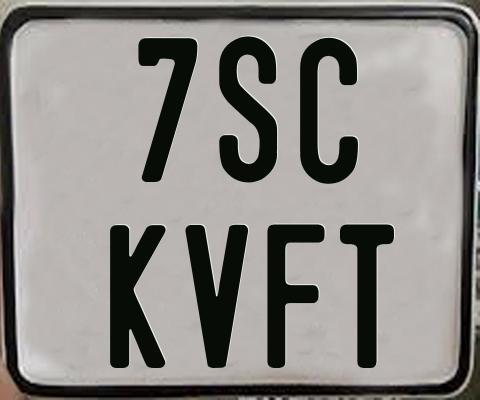7: (135, 36, 195, 182)
C: (300, 38, 364, 188)
F: (265, 221, 329, 367)
K: (107, 225, 164, 372)
S: (218, 35, 279, 182)
T: (337, 223, 396, 369)
V: (182, 225, 250, 369)
